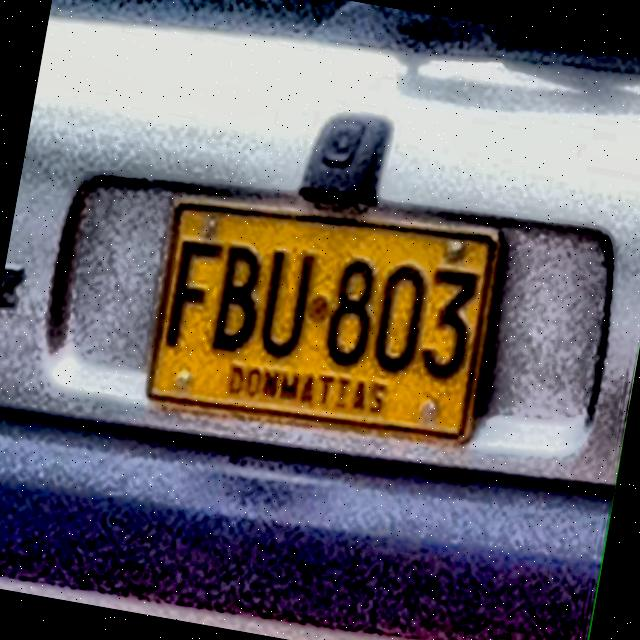plate: (147, 205, 496, 438)
